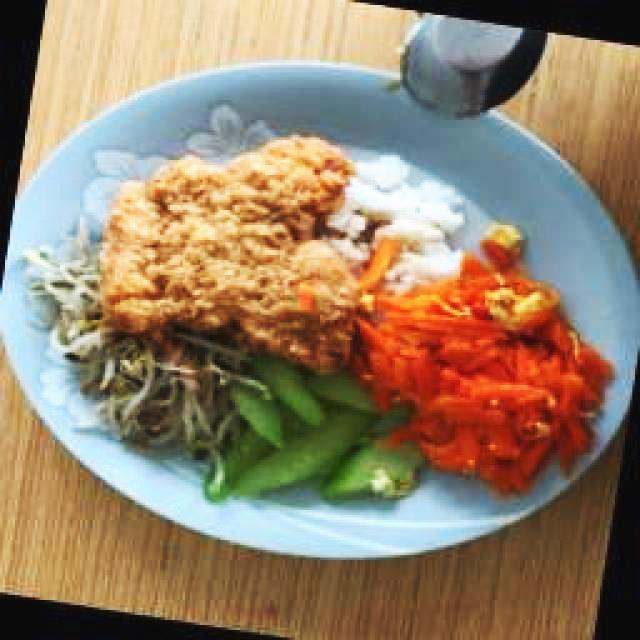carrot_eggs: (353, 218, 611, 495)
fried_chicken: (97, 130, 374, 363)
mung_bean_sprouts: (82, 345, 216, 456), (31, 241, 94, 353)
rice: (351, 160, 462, 226)
